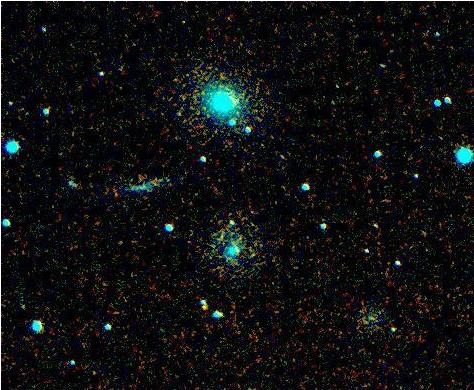star: (182, 288, 212, 318)
